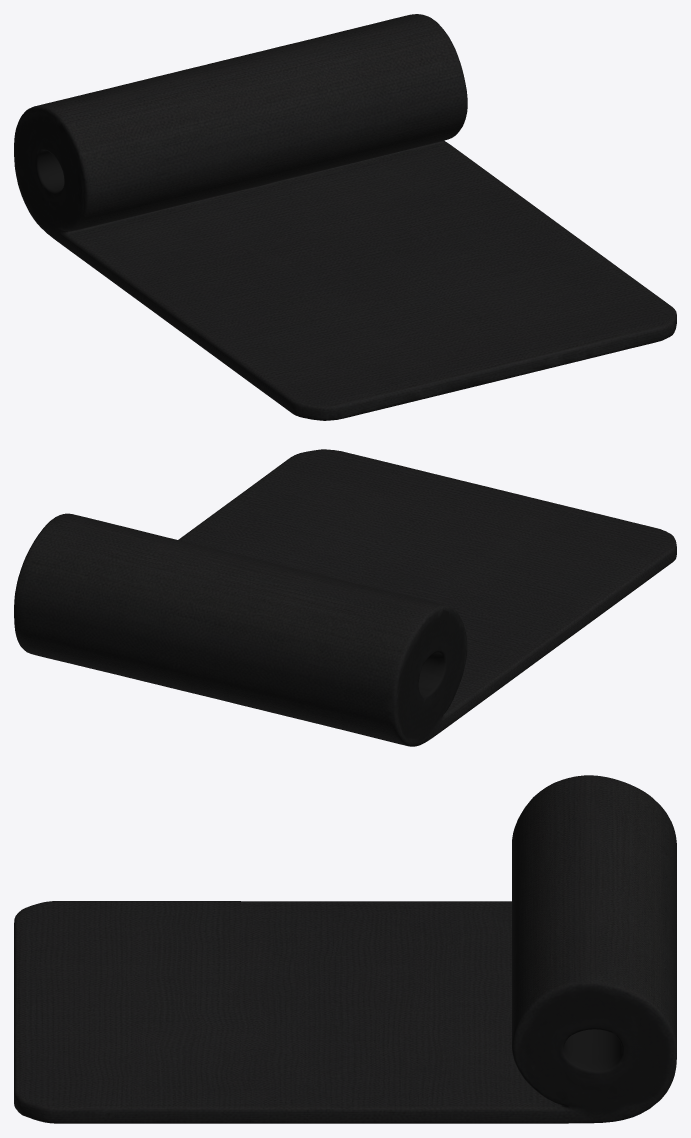
File: yoga_roll_halfrolled_lod.glb
3 views of the same model, one above another, from view 1: azimuth 30°, elevation 25°; view 2: azimuth 150°, elevation 25°; view 3: azimuth 270°, elevation 25° (orthographic). The views are drawn at different scales.
Parts seen in each view (by area): view 1: world; view 2: world; view 3: world.
Boxes of the visible parts, x1,y1,x2,y2 form: world: [14, 14, 676, 420]; world: [14, 449, 676, 746]; world: [14, 775, 676, 1123].
Bounding box in the file's own units: 0.7446 × 0.2371 × 1.
Materials: 1 (1 with a texture image).
